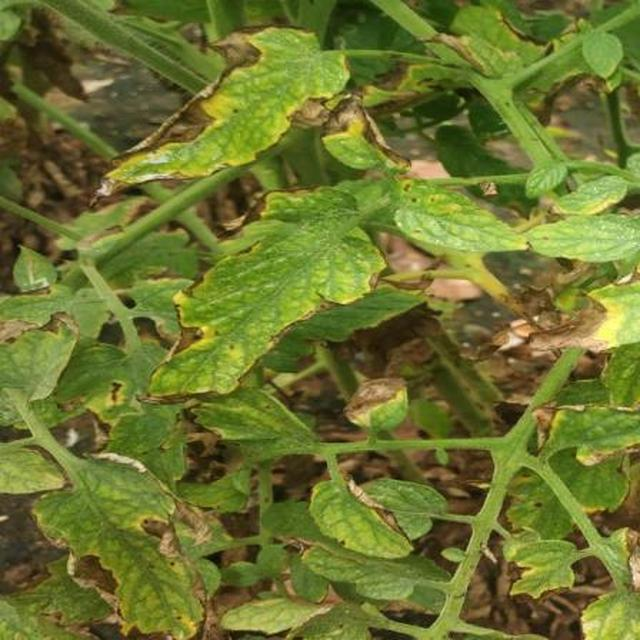Early Blight Leaf: (144, 117, 528, 640)
